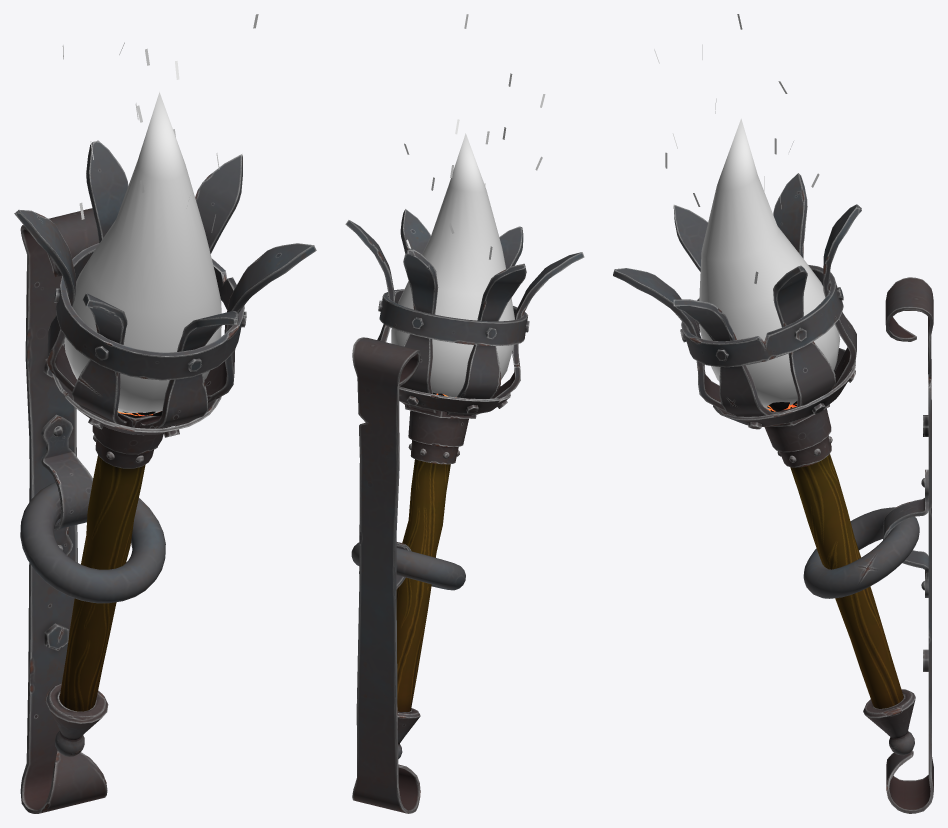
The model's file is torch.gltf.
3 views of the same model, side by side, from view 1: azimuth 30°, elevation 25°; view 2: azimuth 150°, elevation 25°; view 3: azimuth 270°, elevation 25° (orthographic). The views are drawn at different scales.
Parts seen in each view (by area): view 1: Torch, Holder, Flame2; view 2: Torch, Holder, Flame2, Flame3; view 3: Torch, Flame2, Holder.
Part boxes in pixels (x1=…): Torch: x1=14, y1=140, x2=316, y2=756; Holder: x1=20, y1=208, x2=165, y2=813; Flame2: x1=64, y1=92, x2=221, y2=413; Torch: x1=345, y1=209, x2=584, y2=758; Holder: x1=351, y1=337, x2=465, y2=813; Flame2: x1=391, y1=133, x2=514, y2=397; Flame3: x1=404, y1=14, x2=545, y2=259; Torch: x1=613, y1=173, x2=915, y2=755; Flame2: x1=699, y1=118, x2=840, y2=409; Holder: x1=803, y1=277, x2=933, y2=813.
Size of the model in its own units: 0.3501 by 1.29 by 0.4865.
Materials: 3 (2 with a texture image).
